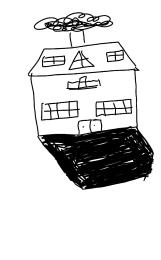closed_window: (38, 96, 83, 120), (87, 94, 133, 116), (68, 49, 99, 71), (40, 52, 69, 69), (103, 48, 126, 64)
door: (73, 117, 106, 136)
roof: (20, 39, 146, 79)
shadow: (35, 124, 155, 191)
smoking_chimney: (31, 8, 120, 49)
wall: (29, 68, 139, 138)
